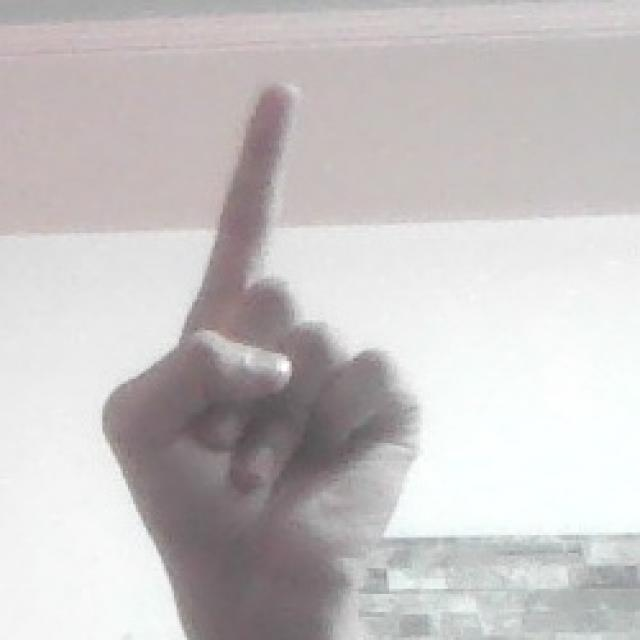Numeric-1: (103, 72, 424, 624)
